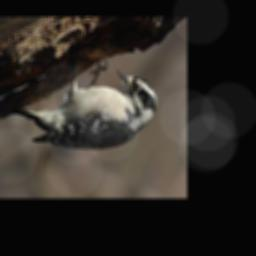Woodpecker: (10, 58, 156, 150)
